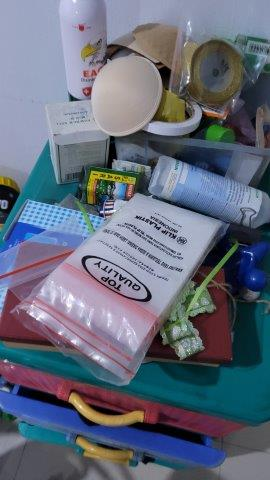plastik: (7, 191, 235, 381), (172, 18, 266, 112)
